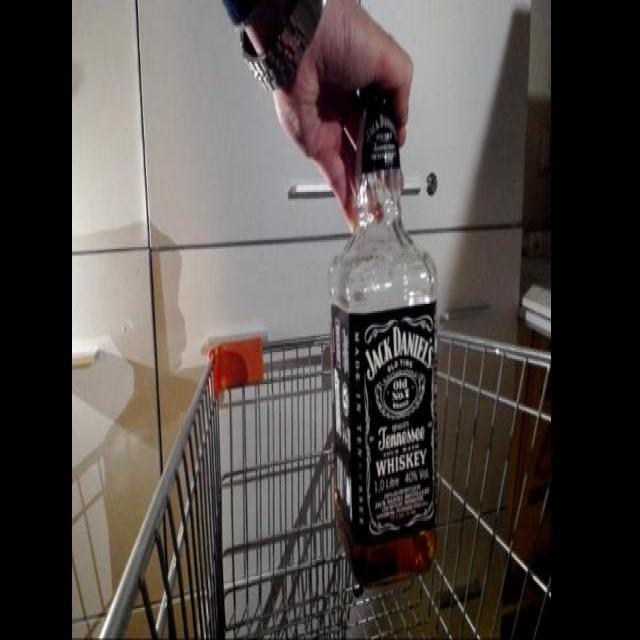Jack Daniels: (314, 61, 454, 598)
